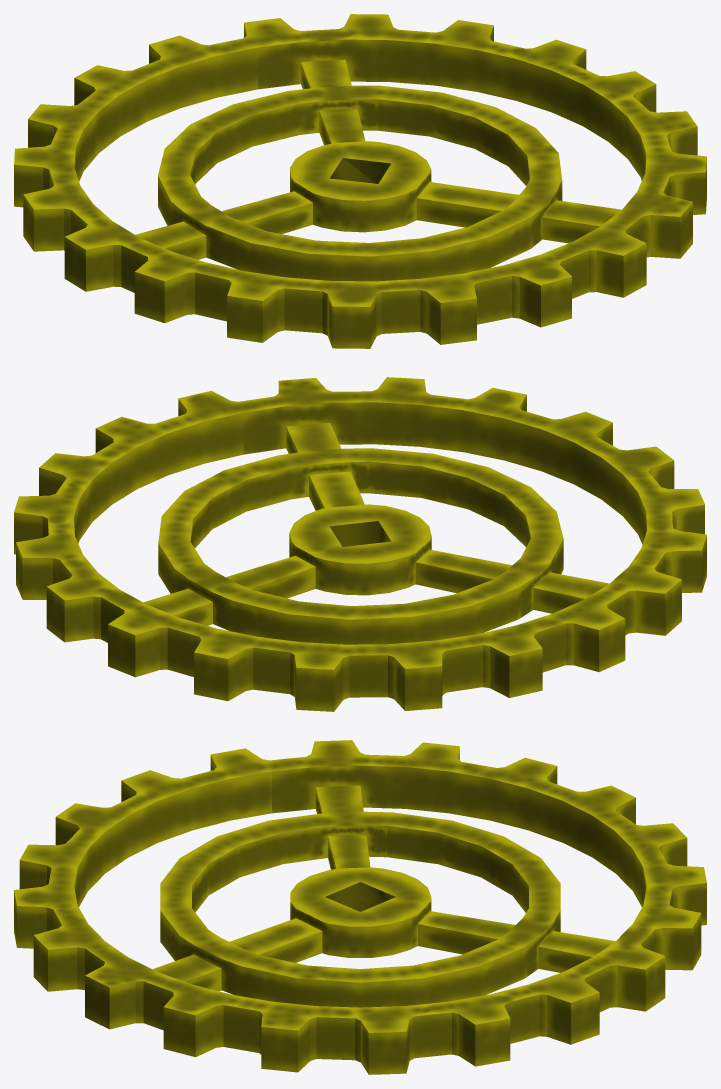
Rendered from Gear_original.fbx.
The picture shows the model from 3 angles, top to bottom: view 1: azimuth 30°, elevation 25°; view 2: azimuth 150°, elevation 25°; view 3: azimuth 270°, elevation 25°; orthographic projection.
Parts seen in each view (by area): view 1: gear1; view 2: gear1; view 3: gear1.
Part boxes in pixels (x1,y1,x2,y2): gear1: [14, 14, 706, 348]; gear1: [14, 377, 706, 711]; gear1: [14, 740, 706, 1074].
Bounding box in the file's own units: 399 × 26.65 × 399.
